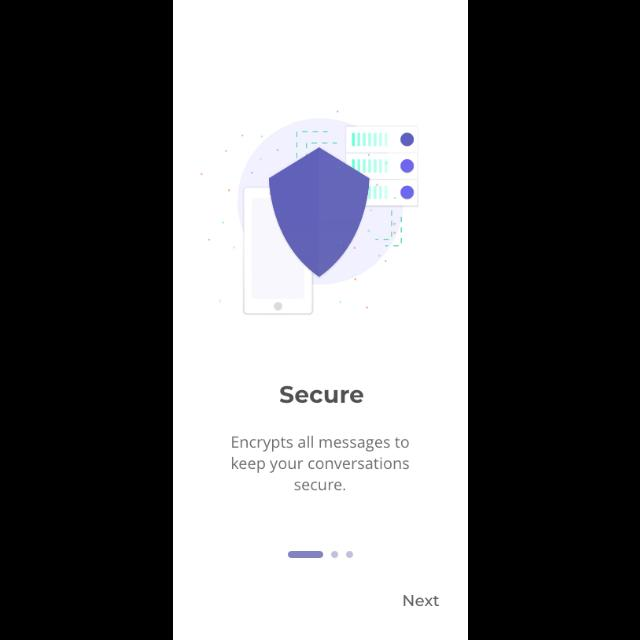image: (199, 110, 419, 316)
pageindicator: (288, 550, 354, 558)
text: (231, 436, 409, 490), (279, 386, 363, 404), (402, 595, 440, 607)
